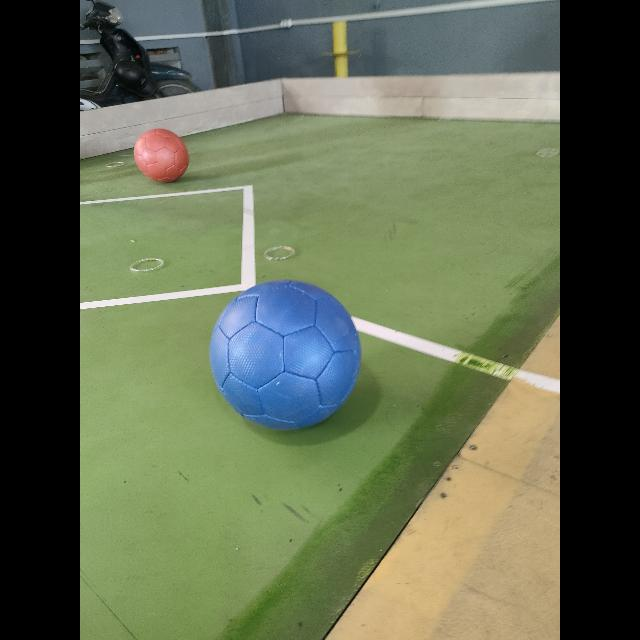B: (211, 281, 361, 429)
R: (134, 128, 188, 182)
